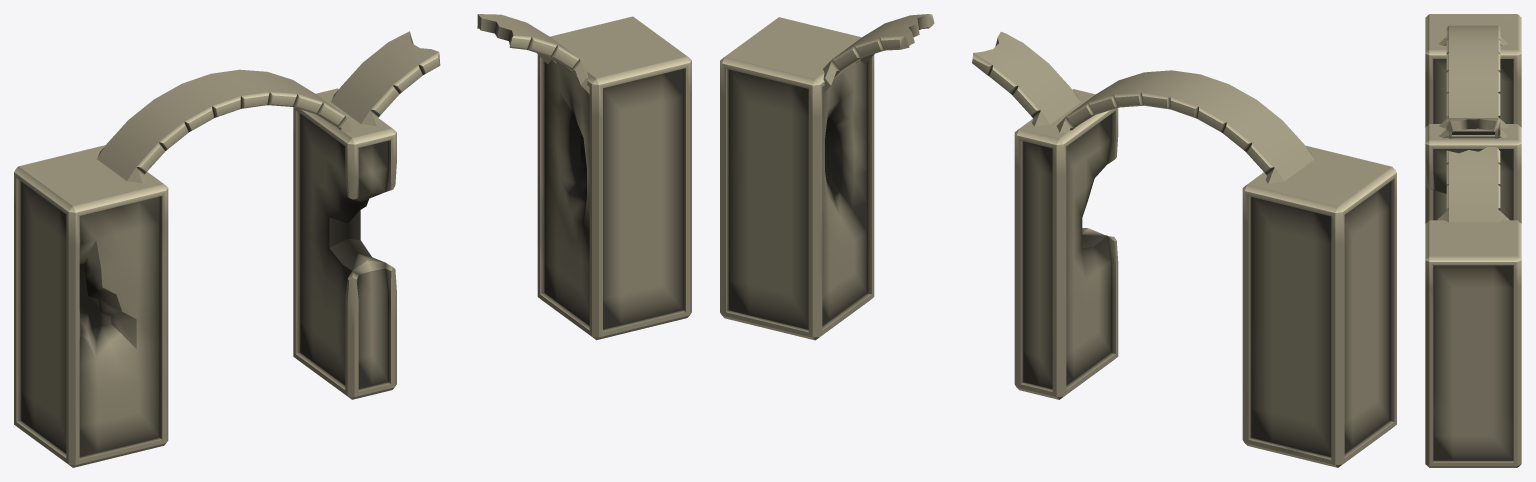
The model's file is Arch1.fbx.
3 renders of one model, left to right at view 1: azimuth 30°, elevation 25°; view 2: azimuth 150°, elevation 25°; view 3: azimuth 270°, elevation 25°, orthographic. The views are drawn at different scales.
Visible parts, largest first — view 1: Arch; view 2: Arch; view 3: Arch.
Part boxes in pixels (<box>): Arch: <box>14,14,691,467</box>; Arch: <box>720,14,1396,467</box>; Arch: <box>1425,14,1521,467</box>.
Bounding box in the file's own units: 959 × 469 × 159.
